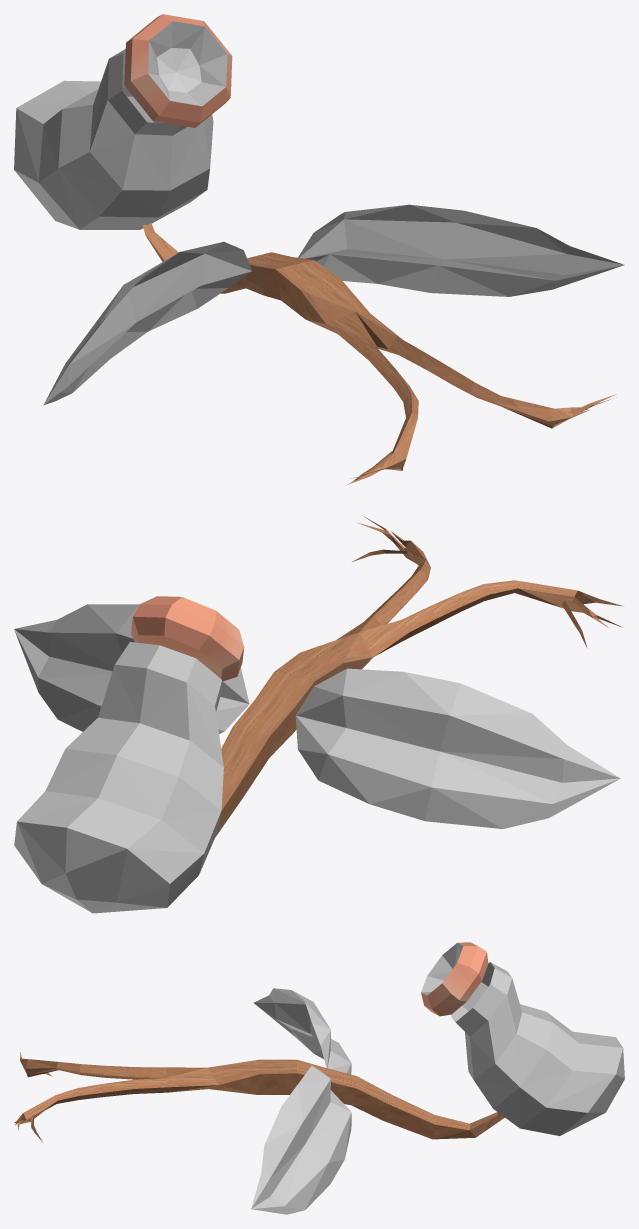
File: BR_Bellsprout-Shiny01.obj
3 views of the same model, one above another, from view 1: azimuth 30°, elevation 25°; view 2: azimuth 150°, elevation 25°; view 3: azimuth 270°, elevation 25° (orthographic). The views are drawn at different scales.
Visible parts, largest first — view 1: madatsubomi; view 2: madatsubomi; view 3: madatsubomi.
Part boxes in pixels (box(x1,y1,x2,y2)): madatsubomi: box(14, 14, 624, 485); madatsubomi: box(14, 516, 622, 913); madatsubomi: box(14, 942, 624, 1214).
Bounding box in the file's own units: 5.22 × 2.22 × 6.53.
